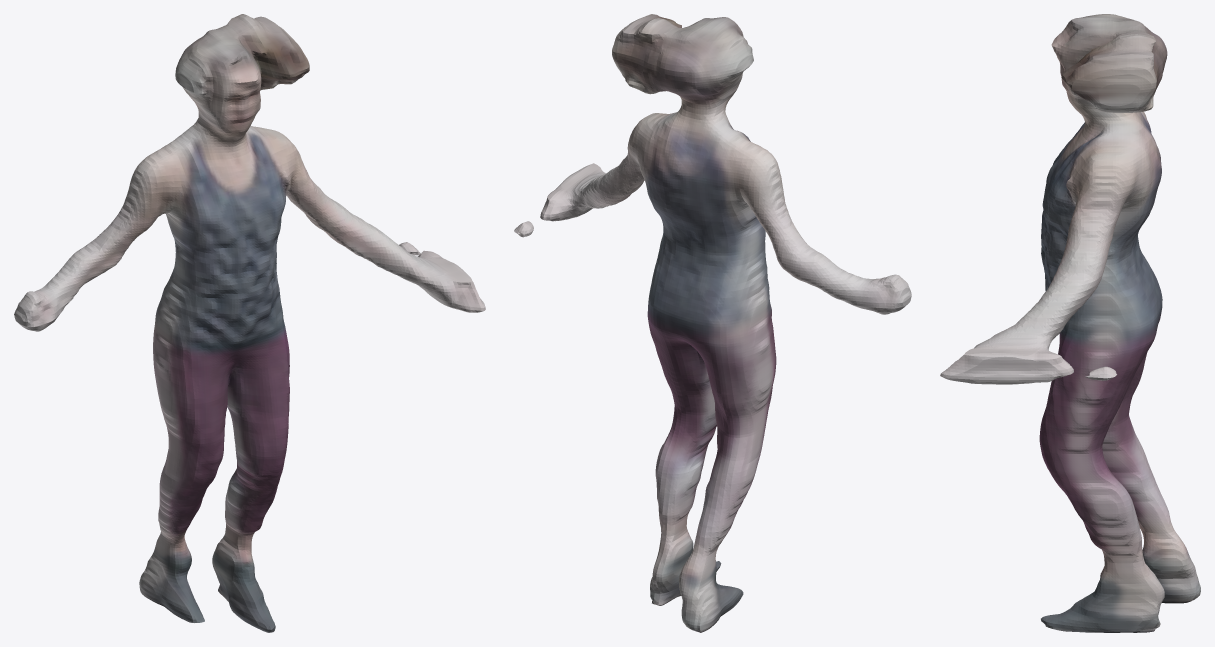
File: 0090_tex.glb
The picture shows the model from 3 angles, left to right: view 1: azimuth 30°, elevation 25°; view 2: azimuth 150°, elevation 25°; view 3: azimuth 270°, elevation 25°; orthographic projection. The views are drawn at different scales.
Parts seen in each view (by area): view 1: 0090_tex.obj; view 2: 0090_tex.obj; view 3: 0090_tex.obj.
Boxes of the visible parts, x1=… form: 0090_tex.obj: x1=14, y1=14, x2=485, y2=632; 0090_tex.obj: x1=514, y1=14, x2=911, y2=632; 0090_tex.obj: x1=940, y1=14, x2=1200, y2=632.
Size of the model in its own units: 0.6379 by 0.8958 by 0.3509.
